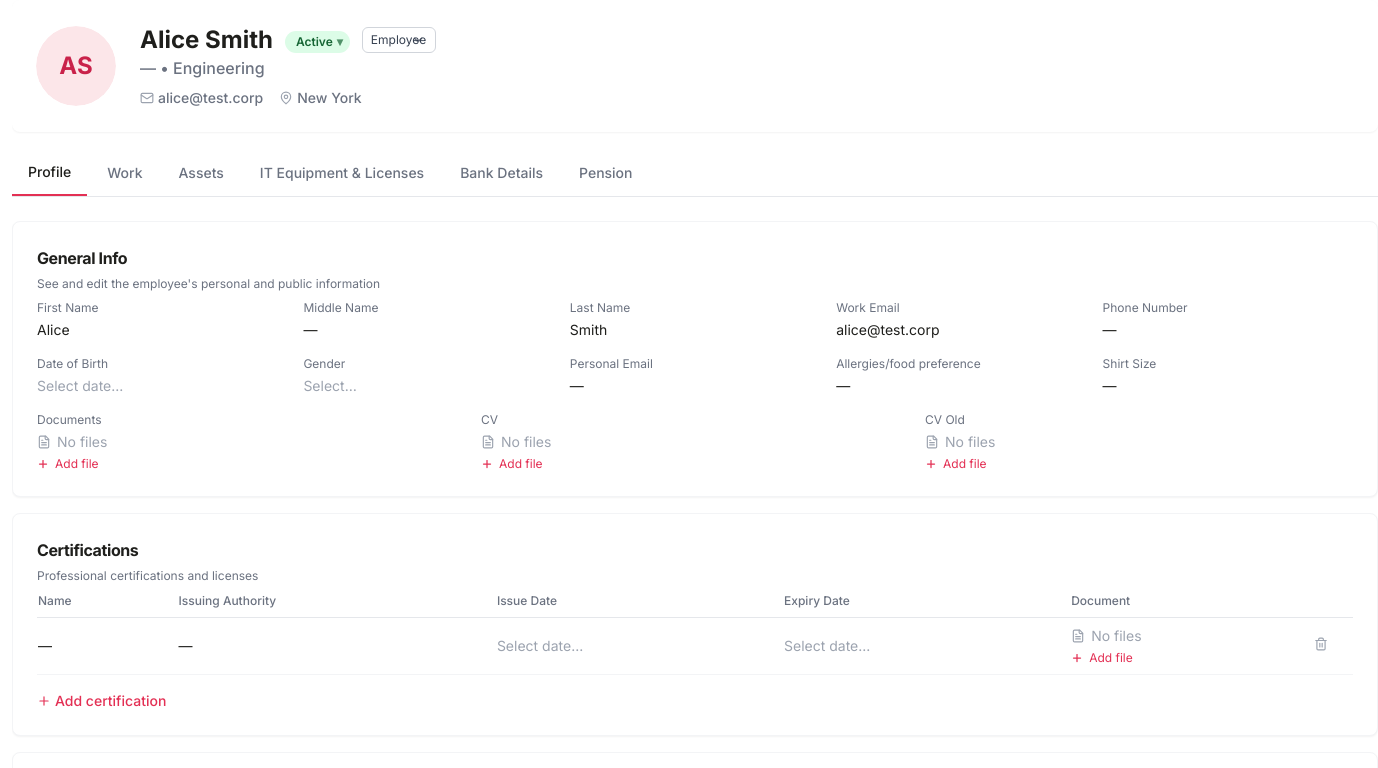
Test case: Employee profile page › Role section shows dash for GL when employee has no TL
The image size is (1378, 768).
Click the tab "Work": {"x": 125, "y": 176} 91,157 -> 158,195
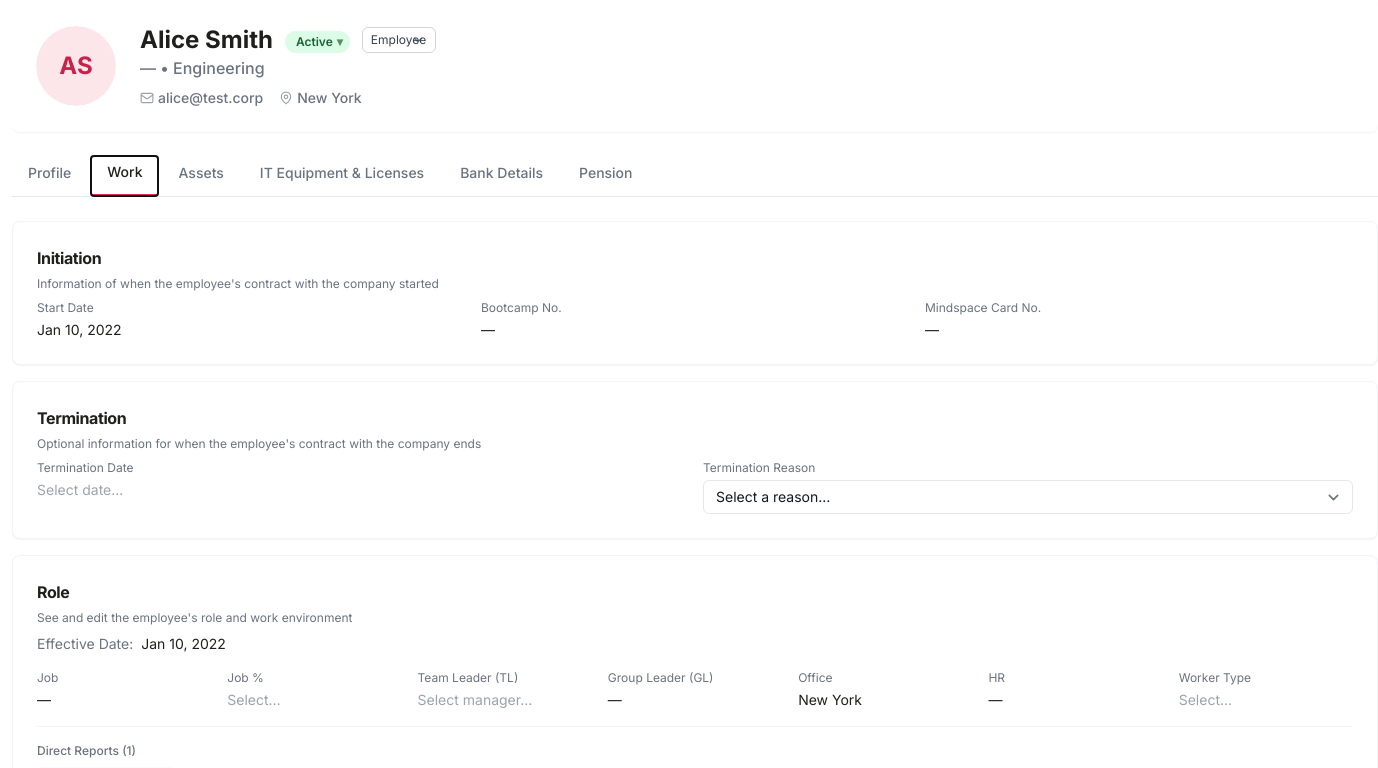
Expected: the text "Group Leader (GL)" is shown, 608,670 -> 714,685
